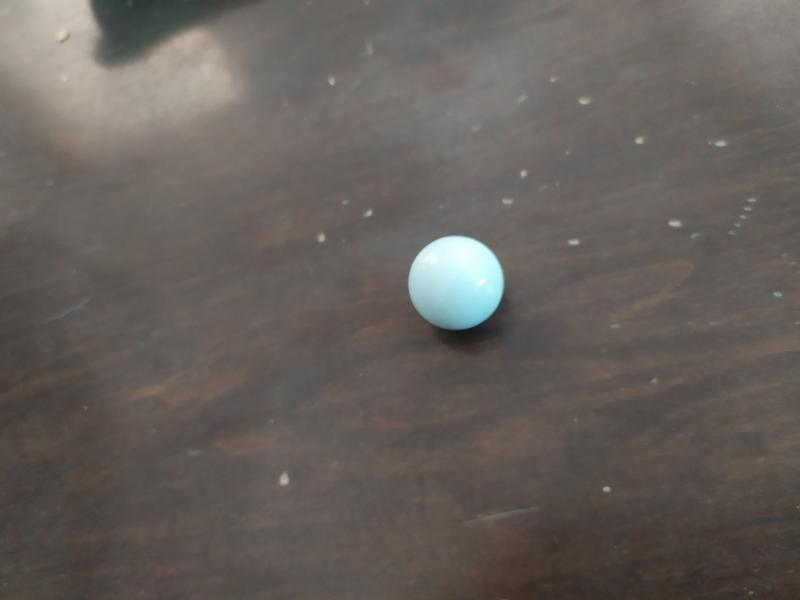Warning: (405, 231, 508, 334)
